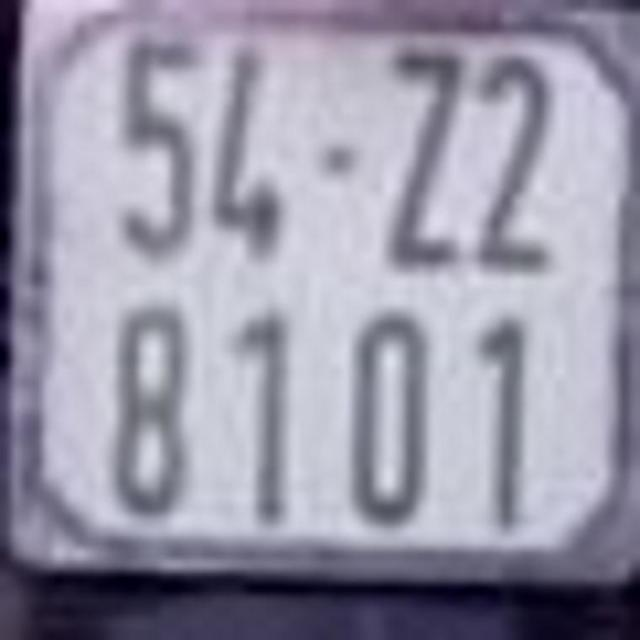0: (350, 303, 430, 532)
1: (223, 298, 300, 536), (466, 305, 536, 538)
2: (471, 36, 549, 276)
4: (205, 31, 283, 264)
5: (119, 29, 198, 258)
8: (112, 289, 187, 529)
Z: (382, 43, 467, 272)
